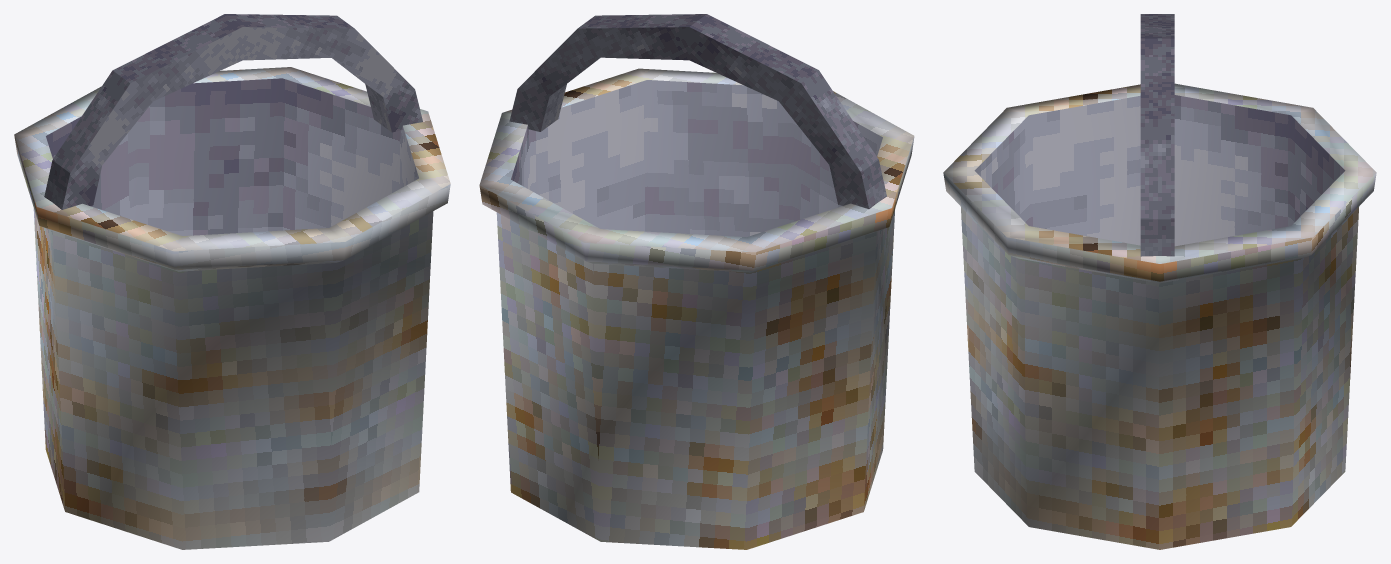
File: rustybucket.glb
The picture shows the model from 3 angles, left to right: view 1: azimuth 30°, elevation 25°; view 2: azimuth 150°, elevation 25°; view 3: azimuth 270°, elevation 25°; orthographic projection. The views are drawn at different scales.
Parts seen in each view (by area): view 1: Base, Handle; view 2: Base, Handle; view 3: Base, Handle.
Boxes of the visible parts, x1,y1,x2,y2 form: Base: (14, 67, 450, 549); Handle: (44, 14, 422, 209); Base: (479, 68, 914, 549); Handle: (509, 14, 886, 208); Base: (943, 83, 1376, 549); Handle: (1140, 14, 1174, 256).
Size of the model in its own units: 2.34 by 2.58 by 2.34.
Materials: 2 (2 with a texture image).
